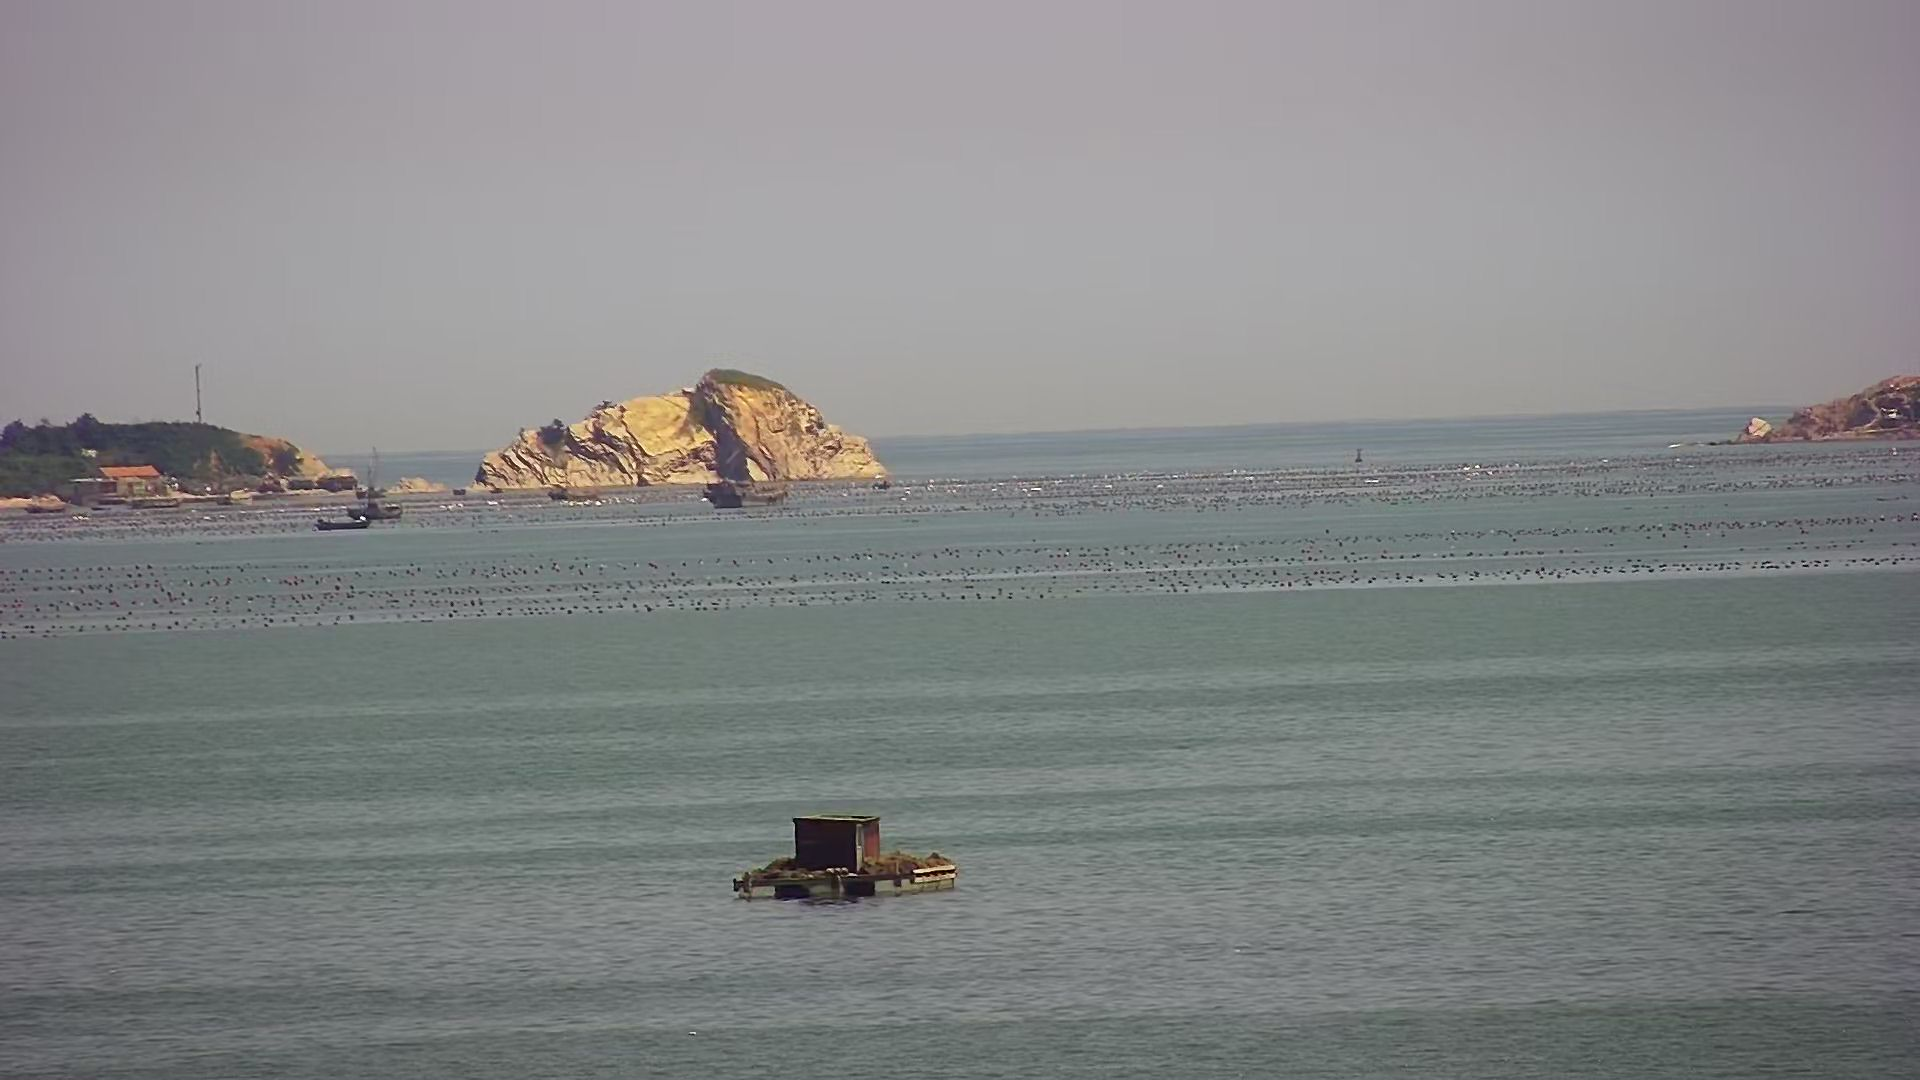boat: (307, 472, 404, 531), (704, 471, 793, 513)
platform: (733, 811, 956, 905)
rock: (459, 365, 891, 491), (1683, 375, 1920, 447)
